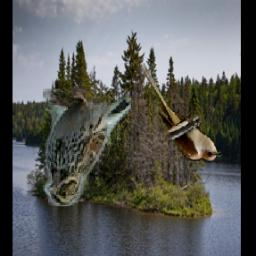Cuckoo: (140, 64, 222, 163)
Sparrow: (44, 89, 132, 206)
